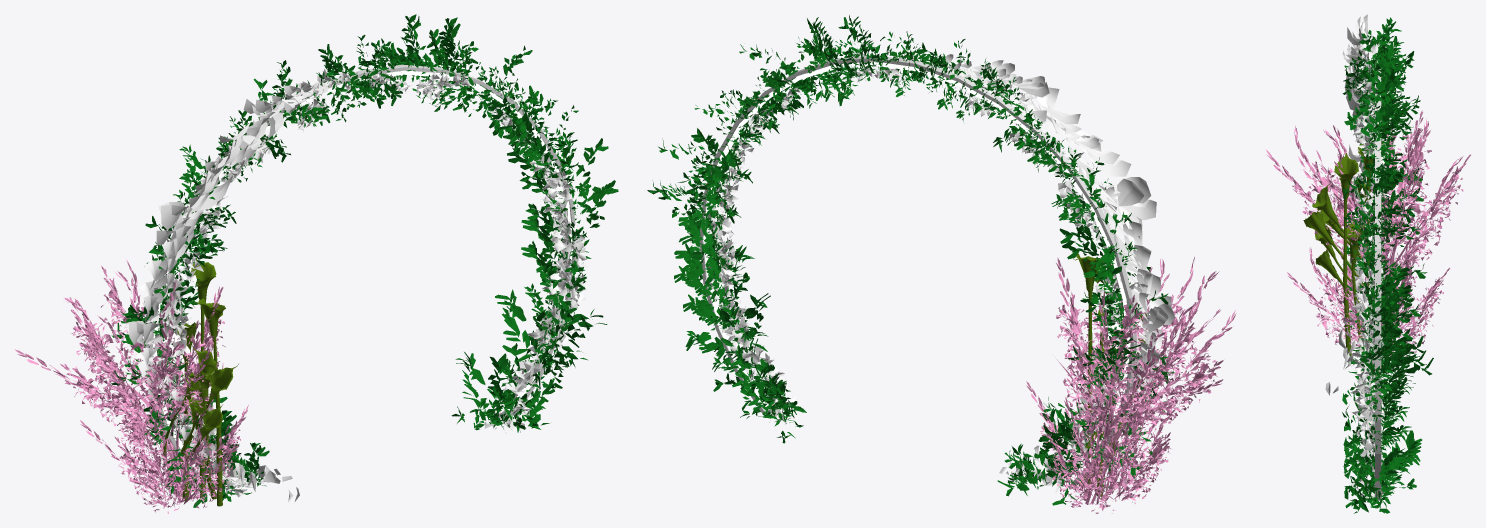
File: wedding_gate-v1.glb
3 renders of one model, left to right at view 1: azimuth 30°, elevation 25°; view 2: azimuth 150°, elevation 25°; view 3: azimuth 270°, elevation 25°, orthographic. The views are drawn at different scales.
Visible parts, largest first — view 1: Object_8, Object072_gladiolus_white_1_1_2s_0_0, gladiolus_leaves_007_gladiolus_stem_plant_0.001_1, Object_16, object 6, gladiolus_leaves_007_gladiolus_stem_plant_0.002_7, Calla 007_Calla_0_3, Calla 008_Calla_0_4, Circle_8, Circle.001_9; view 2: Object_8, Object_16, gladiolus_leaves_007_gladiolus_stem_plant_0.001_1, object 6, Object072_gladiolus_white_1_1_2s_0_0, gladiolus_leaves_007_gladiolus_stem_plant_0.002_7, Circle_8, Circle.001_9, Calla 007_Calla_0_3; view 3: Object_8, Object_16, gladiolus_leaves_007_gladiolus_stem_plant_0.001_1, Object072_gladiolus_white_1_1_2s_0_0, gladiolus_leaves_007_gladiolus_stem_plant_0.002_7, object 6, Calla 007_Calla_0_3, Circle_8, Calla 008_Calla_0_4.
Boxes of the visible parts, x1,y1,x2,y2 form: Object_8: (111,16,618,507); Object072_gladiolus_white_1_1_2s_0_0: (155,71,587,498); gladiolus_leaves_007_gladiolus_stem_plant_0.001_1: (15,252,225,504); Object_16: (122,14,603,495); object 6: (125,69,357,502); gladiolus_leaves_007_gladiolus_stem_plant_0.002_7: (80,363,248,513); Calla 007_Calla_0_3: (177,259,225,506); Calla 008_Calla_0_4: (163,344,238,469); Circle_8: (147,64,576,487); Circle.001_9: (152,70,572,478); Object_8: (647,17,1174,505); Object_16: (674,15,1143,489); gladiolus_leaves_007_gladiolus_stem_plant_0.001_1: (1055,256,1236,505); object 6: (935,54,1174,462); Object072_gladiolus_white_1_1_2s_0_0: (698,52,1137,493); gladiolus_leaves_007_gladiolus_stem_plant_0.002_7: (1026,378,1176,513); Circle_8: (699,56,1136,489); Circle.001_9: (703,61,1130,484); Calla 007_Calla_0_3: (1073,253,1118,496); Object_8: (1342,21,1433,508); Object_16: (1352,17,1422,513); gladiolus_leaves_007_gladiolus_stem_plant_0.001_1: (1266,110,1470,355); Object072_gladiolus_white_1_1_2s_0_0: (1349,60,1388,500); gladiolus_leaves_007_gladiolus_stem_plant_0.002_7: (1287,233,1449,356); object 6: (1325,14,1379,395); Calla 007_Calla_0_3: (1334,141,1391,355); Circle_8: (1375,55,1381,500); Calla 008_Calla_0_4: (1303,183,1364,303).
Size of the model in its own units: 1.85 by 1.29 by 0.6042.
